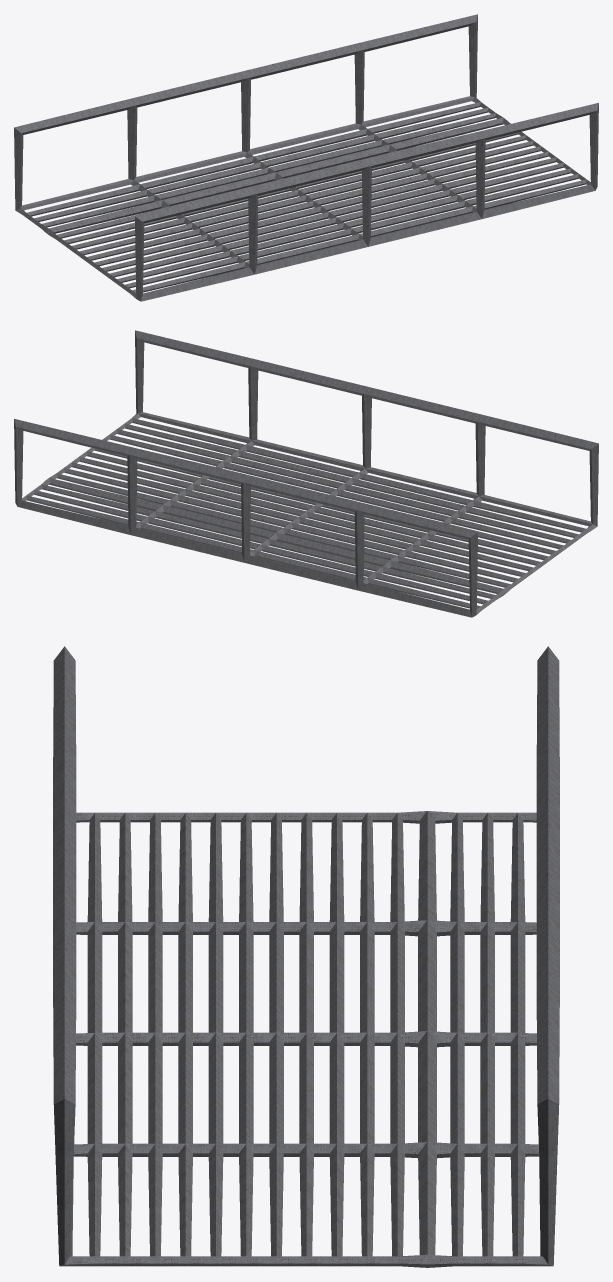
Rendered from Pasillo escalera fabrica.fbx.
3 renders of one model, top to bottom at view 1: azimuth 30°, elevation 25°; view 2: azimuth 150°, elevation 25°; view 3: azimuth 270°, elevation 25°, orthographic. The views are drawn at different scales.
Visible parts, largest first — view 1: pasillo escalera; view 2: pasillo escalera; view 3: pasillo escalera.
Boxes of the visible parts, <box> form: pasillo escalera: <box>14,14,598,301</box>; pasillo escalera: <box>14,330,598,617</box>; pasillo escalera: <box>53,646,559,1267</box>.
Bounding box in the file's own units: 360 × 65.31 × 170.
Materials: 1 (1 with a texture image).
